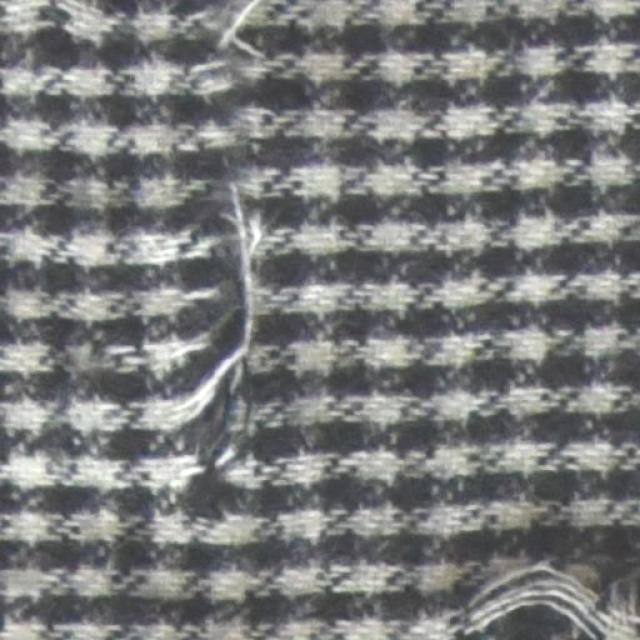Snag: (136, 1, 274, 565), (445, 538, 639, 640)
